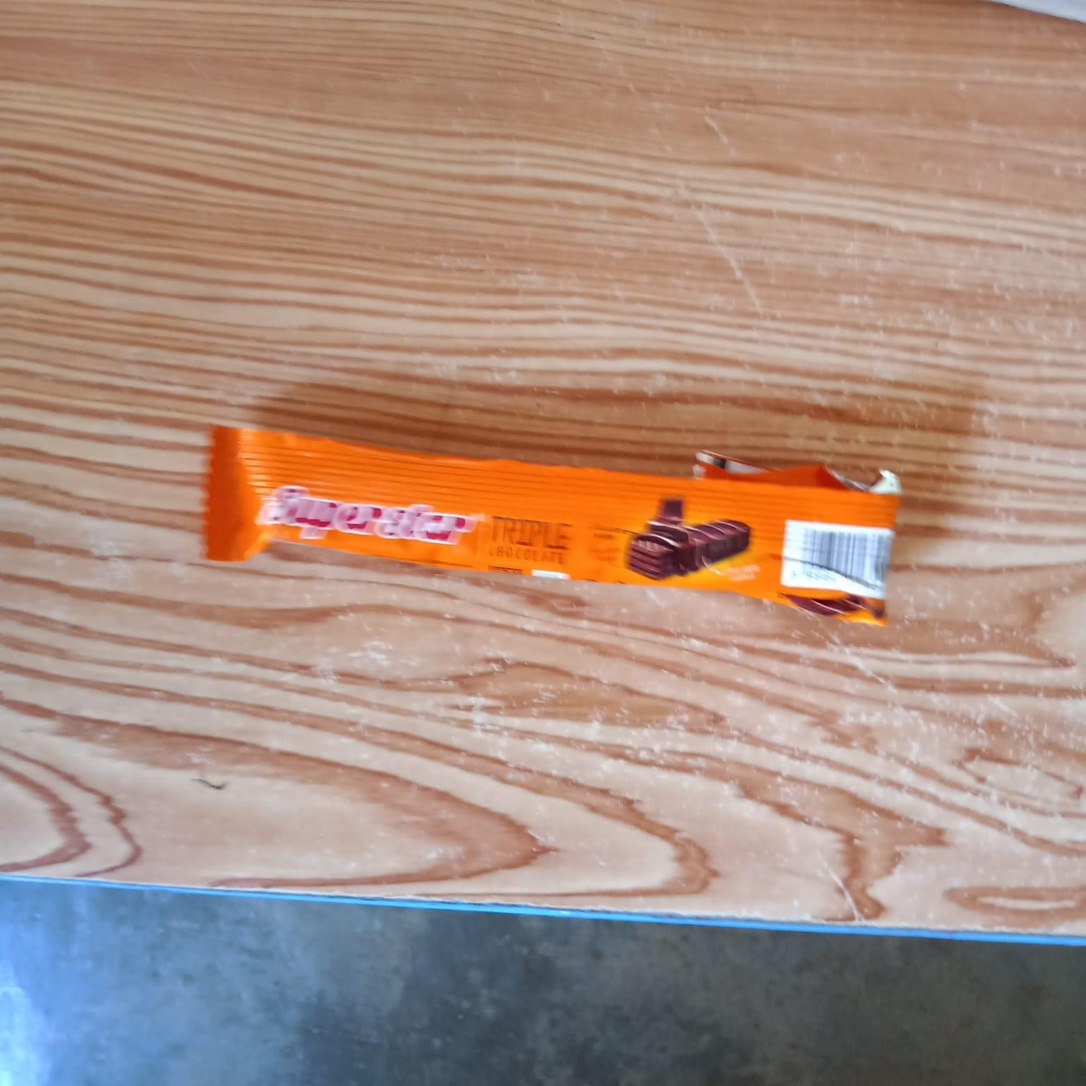Plastik: (202, 415, 905, 632)
